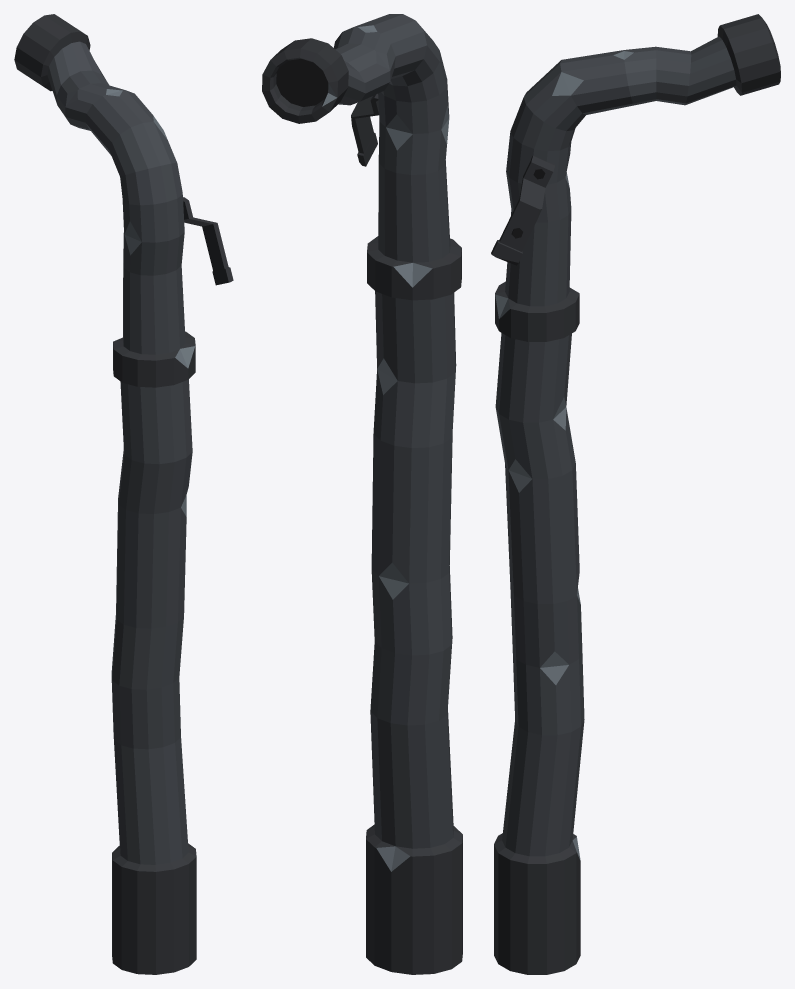
Rendered from pipe.glb.
3 views of the same model, side by side, from view 1: azimuth 30°, elevation 25°; view 2: azimuth 150°, elevation 25°; view 3: azimuth 270°, elevation 25° (orthographic). The views are drawn at different scales.
Parts seen in each view (by area): view 1: SM_Pipe_01; view 2: SM_Pipe_01; view 3: SM_Pipe_01.
Part boxes in pixels (x1,y1,x2,y2): SM_Pipe_01: (14,14,233,974); SM_Pipe_01: (262,14,462,974); SM_Pipe_01: (491,14,780,974).
Bounding box in the file's own units: 0.1034 × 0.9039 × 0.2529.
Materials: 1 (1 with a texture image).
